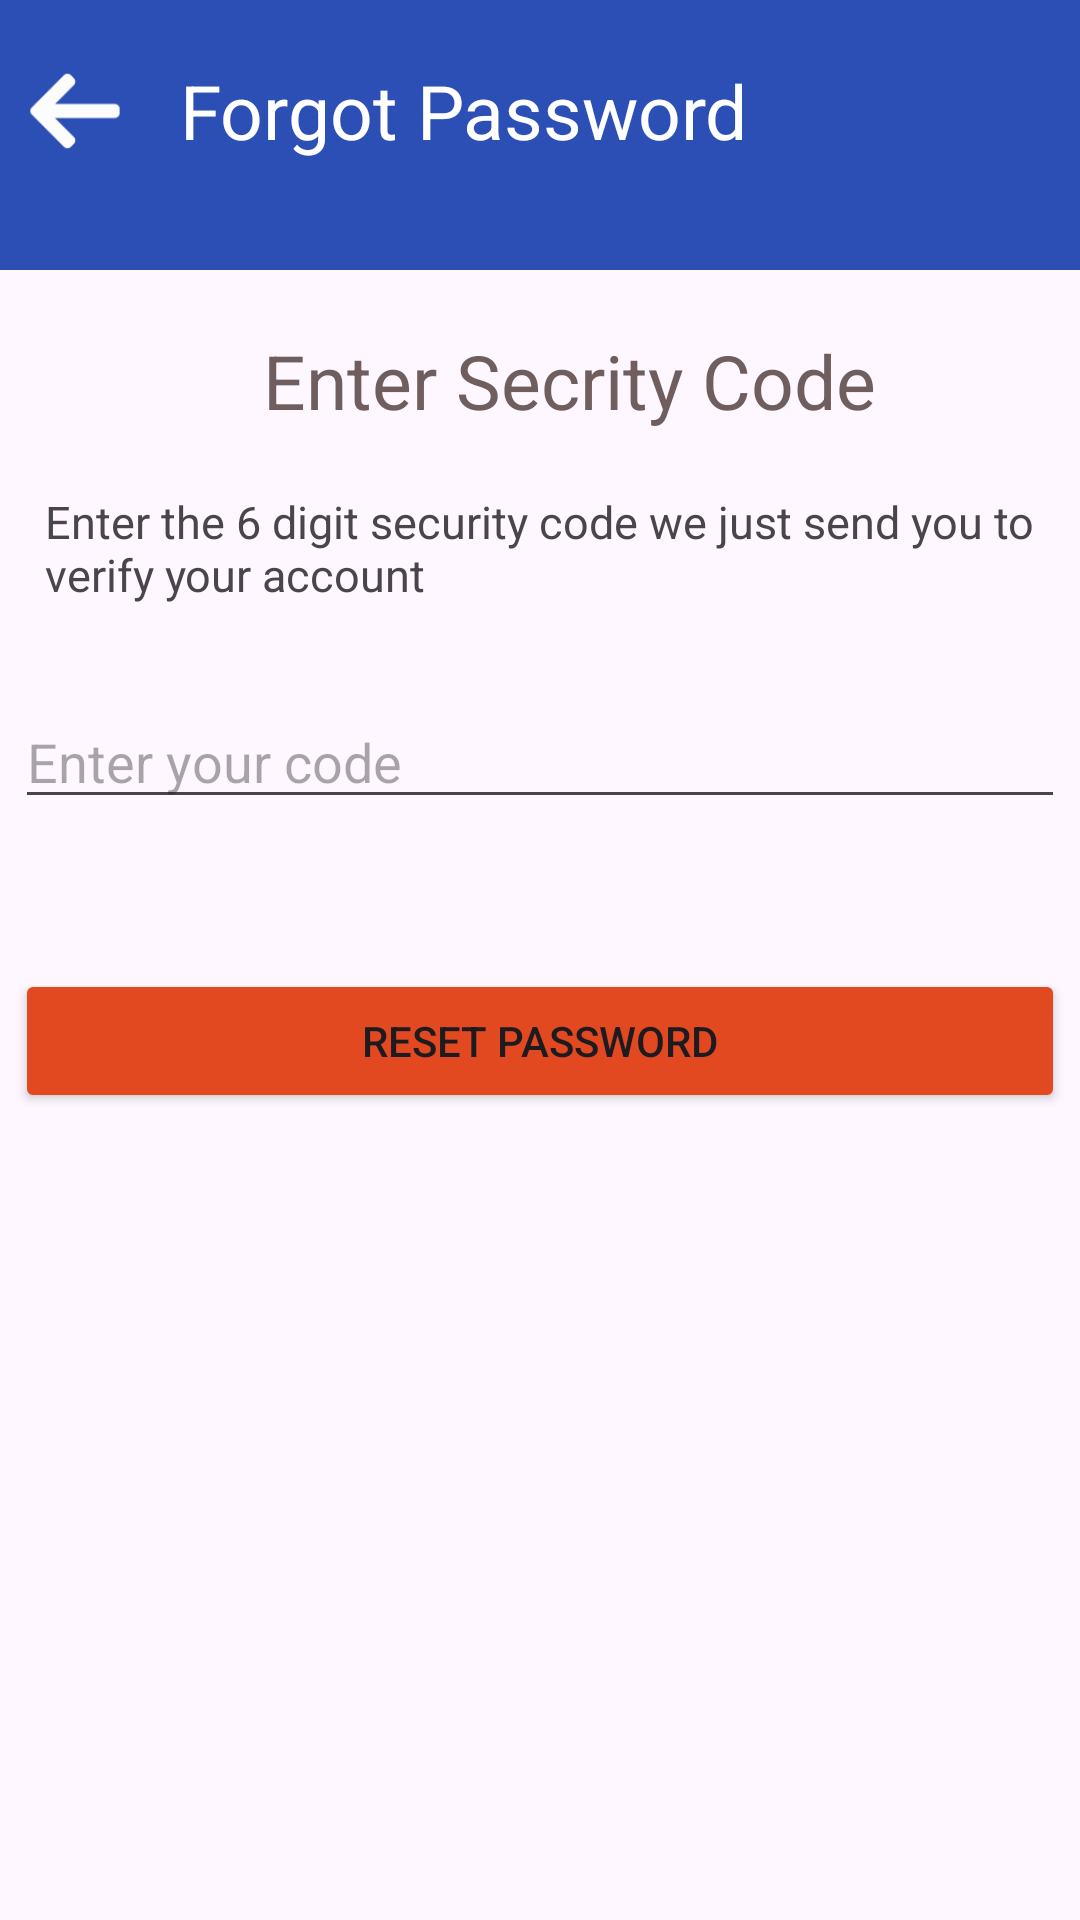

Where to tap for icons on this 1080w x 1920h app screen, as (x=x, y=y):
arrow left: (x=75, y=111)
